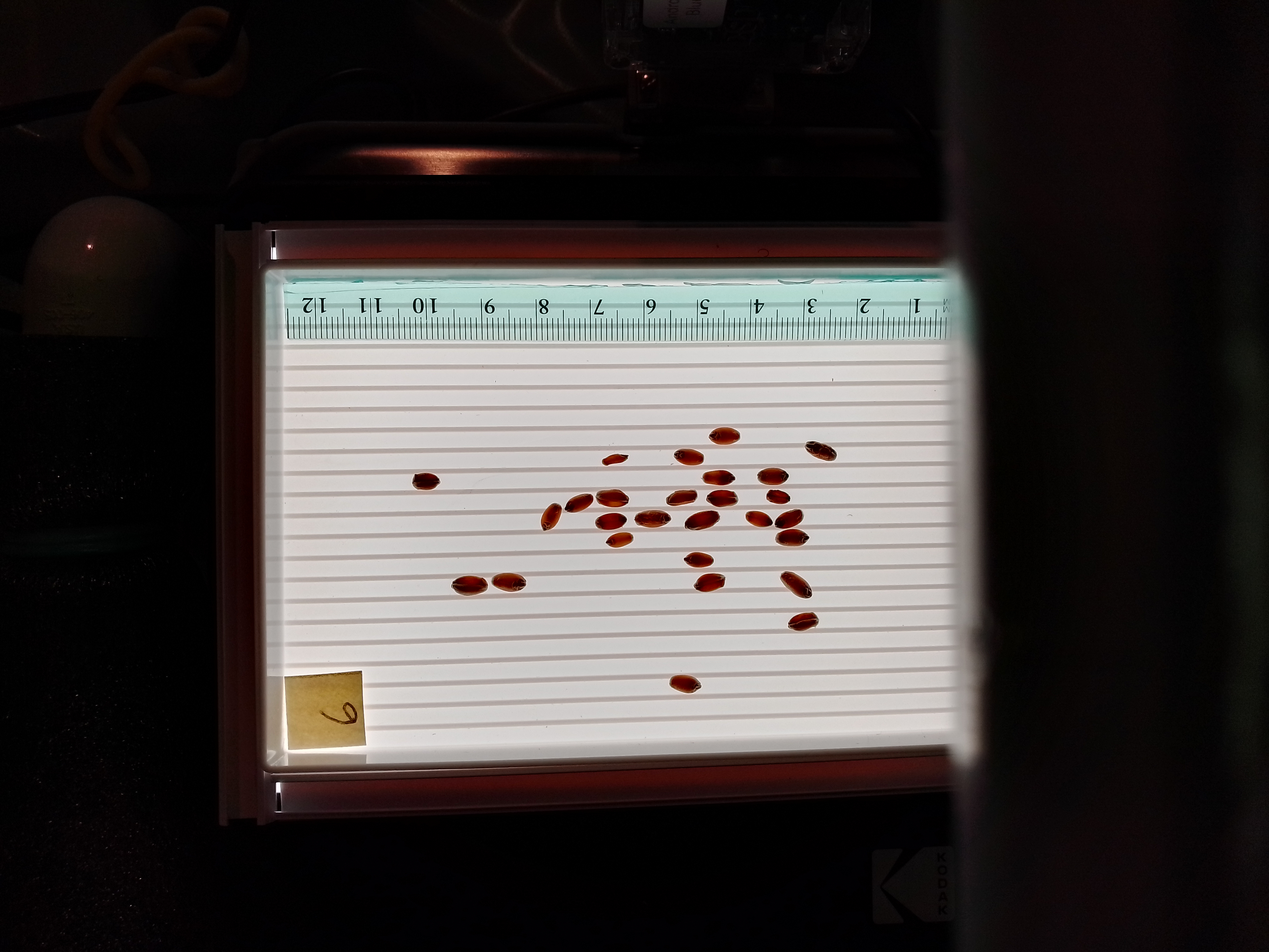seed mask: (782, 572, 812, 598), (452, 575, 487, 596), (493, 573, 526, 593), (685, 511, 718, 530), (709, 426, 740, 446), (635, 511, 670, 528), (540, 504, 562, 531), (805, 442, 836, 461), (596, 489, 628, 507), (777, 529, 808, 547), (758, 468, 788, 486), (789, 613, 818, 631), (695, 574, 724, 592), (596, 513, 625, 531), (670, 675, 700, 692), (775, 510, 803, 528), (707, 491, 738, 507), (704, 469, 733, 486), (412, 473, 439, 491), (566, 494, 593, 512), (666, 491, 696, 506), (685, 552, 713, 568), (675, 449, 703, 465), (746, 511, 772, 527), (607, 533, 633, 548), (766, 491, 790, 505), (603, 454, 627, 465)
